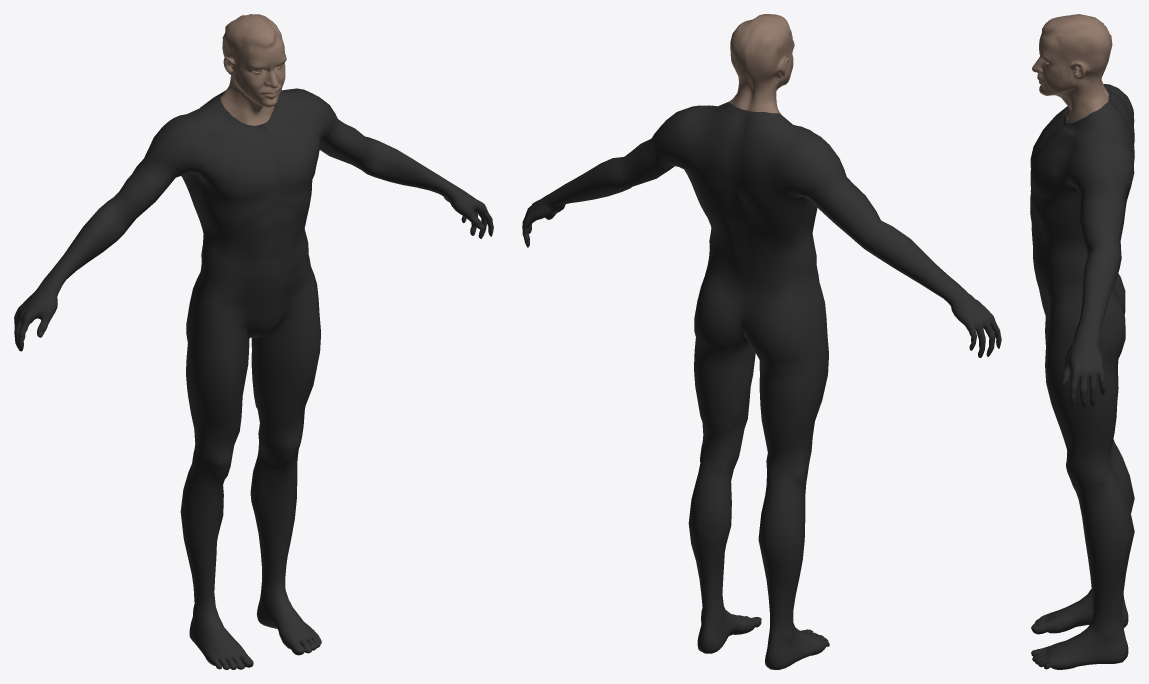
The model's file is body.dae.
3 renders of one model, left to right at view 1: azimuth 30°, elevation 25°; view 2: azimuth 150°, elevation 25°; view 3: azimuth 270°, elevation 25°, orthographic.
Parts seen in each view (by area): view 1: wsc_body, Mat_head; view 2: wsc_body, Mat_head; view 3: wsc_body, Mat_head.
Boxes of the visible parts, <box> form: wsc_body: <box>14,88,493,669</box>; Mat_head: <box>220,14,286,125</box>; wsc_body: <box>522,101,1001,669</box>; Mat_head: <box>728,14,794,114</box>; wsc_body: <box>1030,84,1134,669</box>; Mat_head: <box>1032,14,1112,123</box>.
Bounding box in the file's own units: 1.44 × 0.2745 × 1.82.
